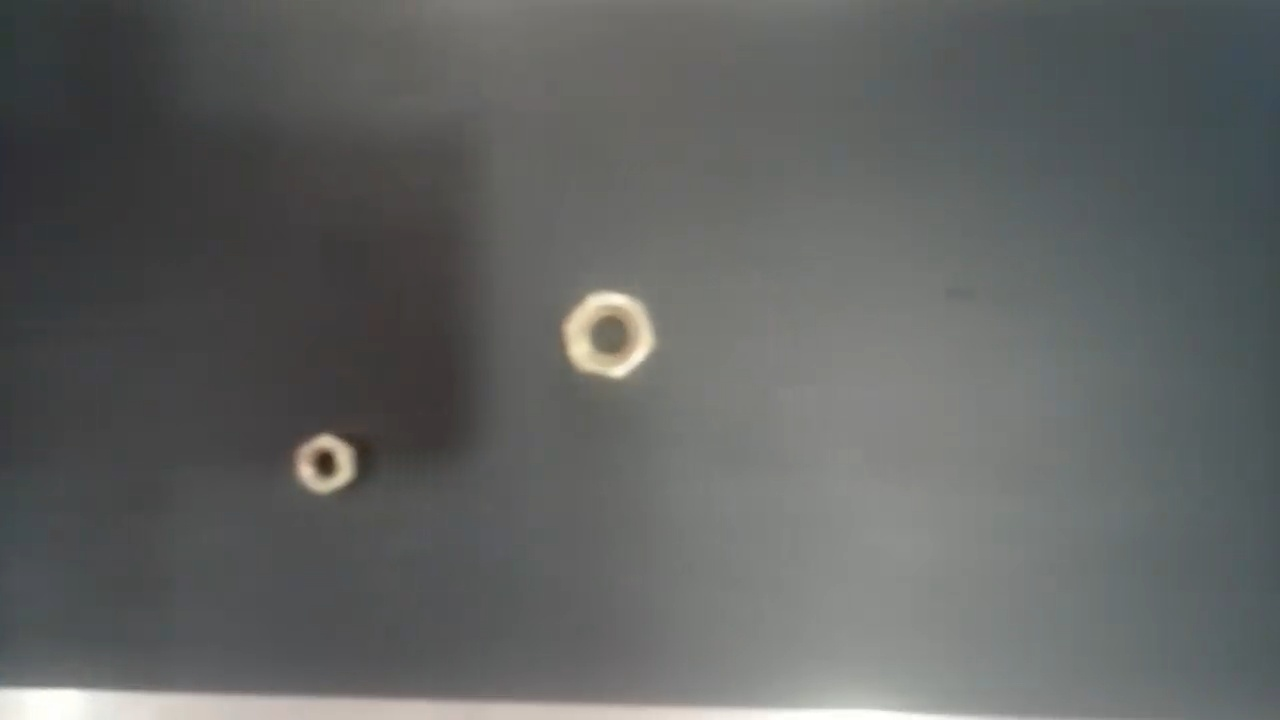Bolt: (560, 291, 659, 380), (291, 427, 360, 500)
